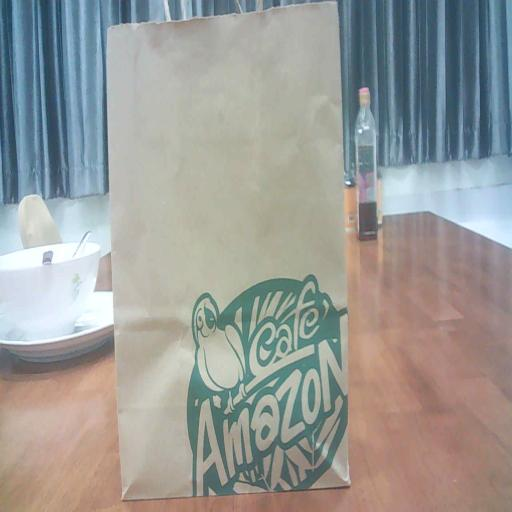bag: (102, 6, 358, 502)
